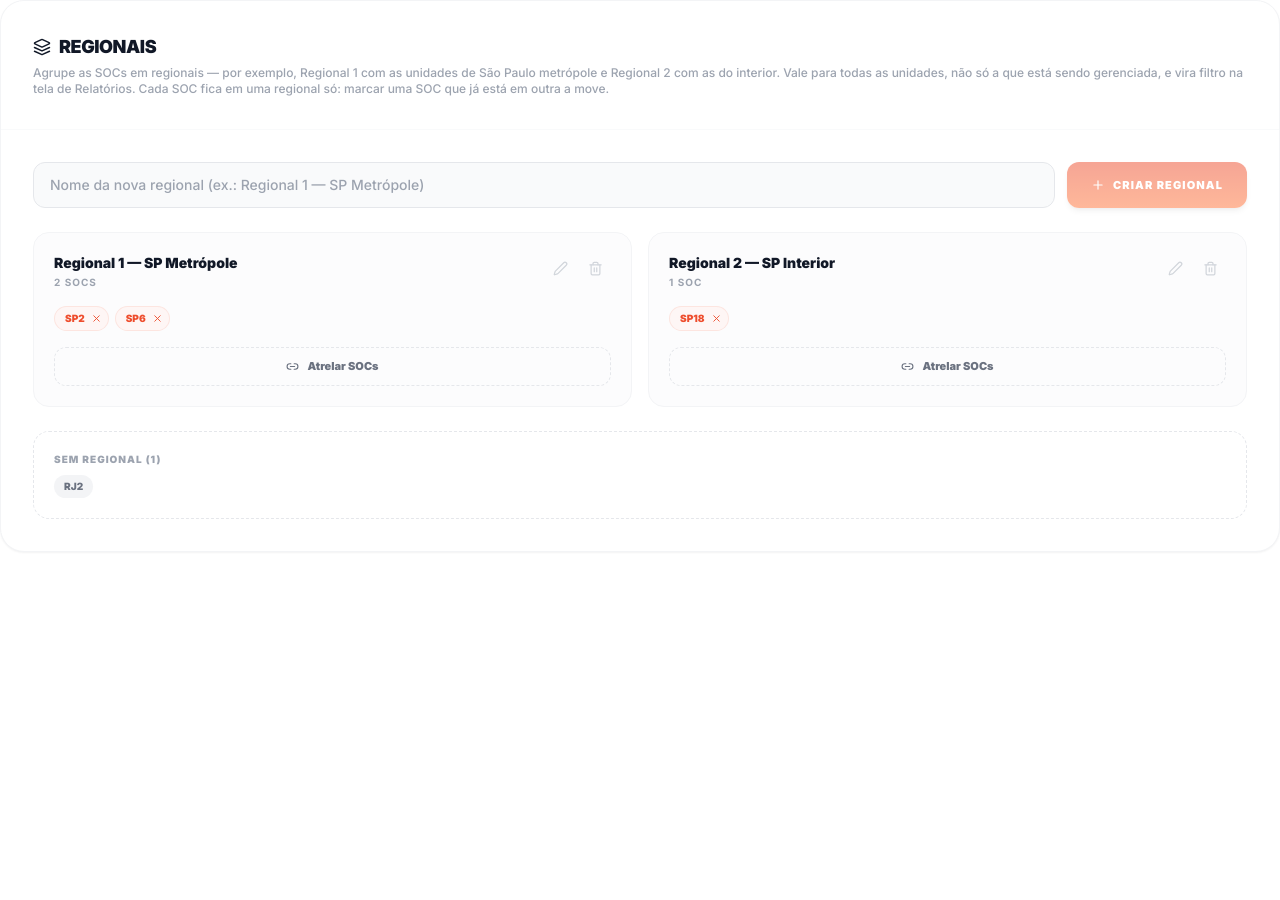
Test: RegionaisCard › o painel de atrelar marca as SOCs da regional e avisa de onde uma SOC vai sair
Click the button "Atrelar SOCs" below "SP2" at [332, 366], box [54,347,611,386]
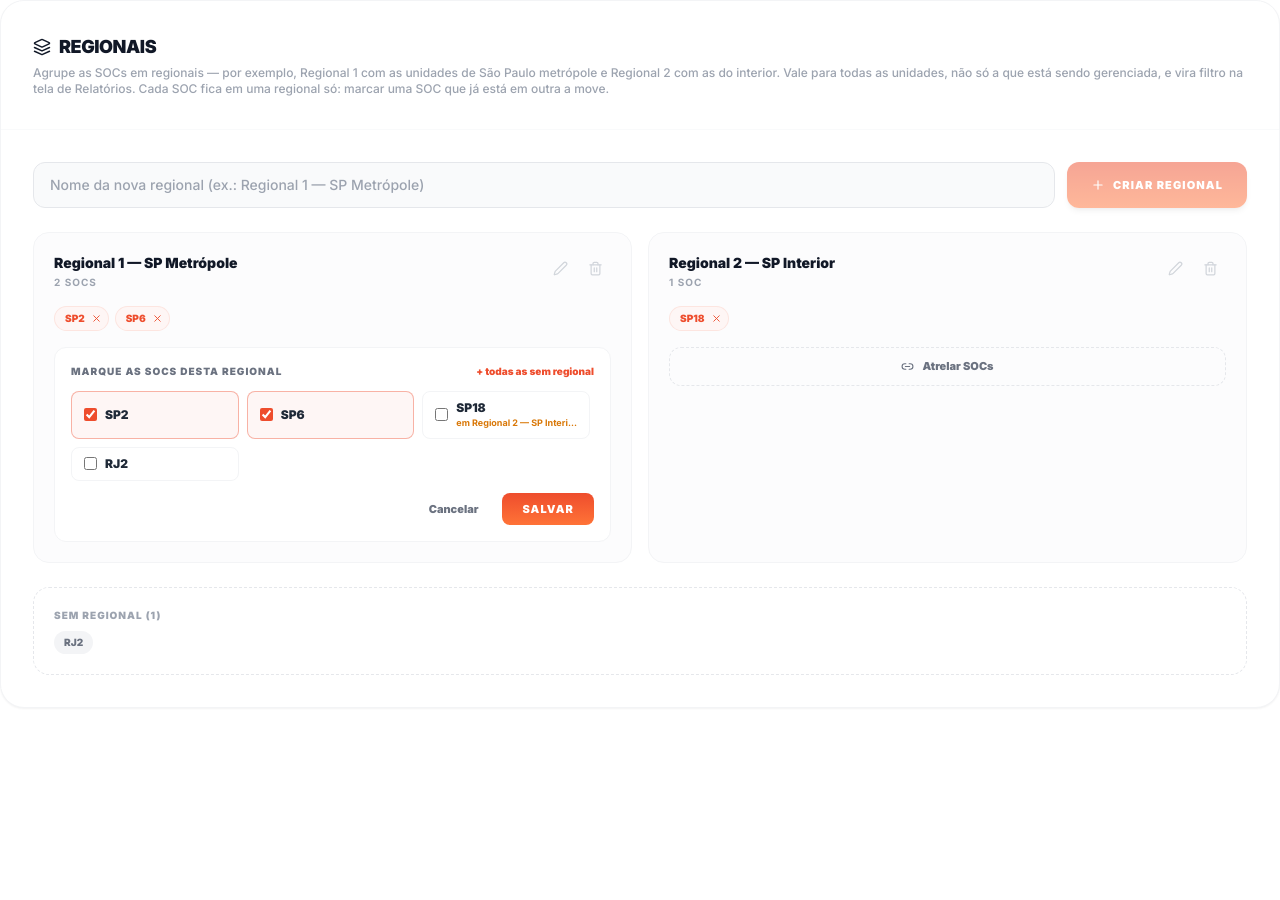
Result: the checkbox labelled "SP2" is checked at [84,408,97,421]
Result: the checkbox labelled "SP6" is checked at [260,408,273,421]
Result: the checkbox labelled "SP18 em Regional 2 — SP Interior" is not checked
Note: Marcar SP18 avisa que ela sai da Regional 2.
Click the checkbox labelled "SP18 em Regional 2 — SP Interior" at [442, 415], box [435,408,448,421]
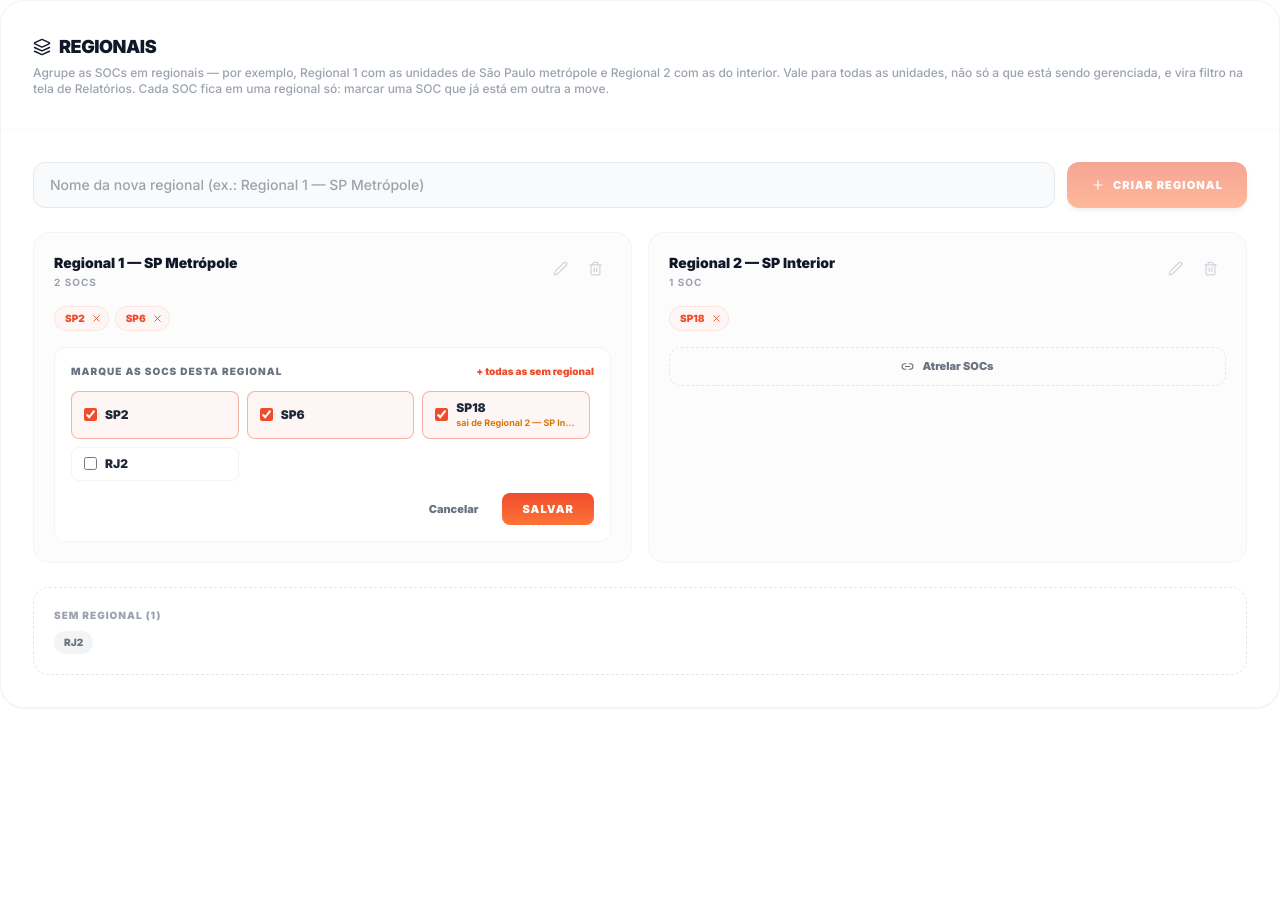
Result: the text "sai de Regional 2 — SP Interior" is shown at [456,416,577,430]
